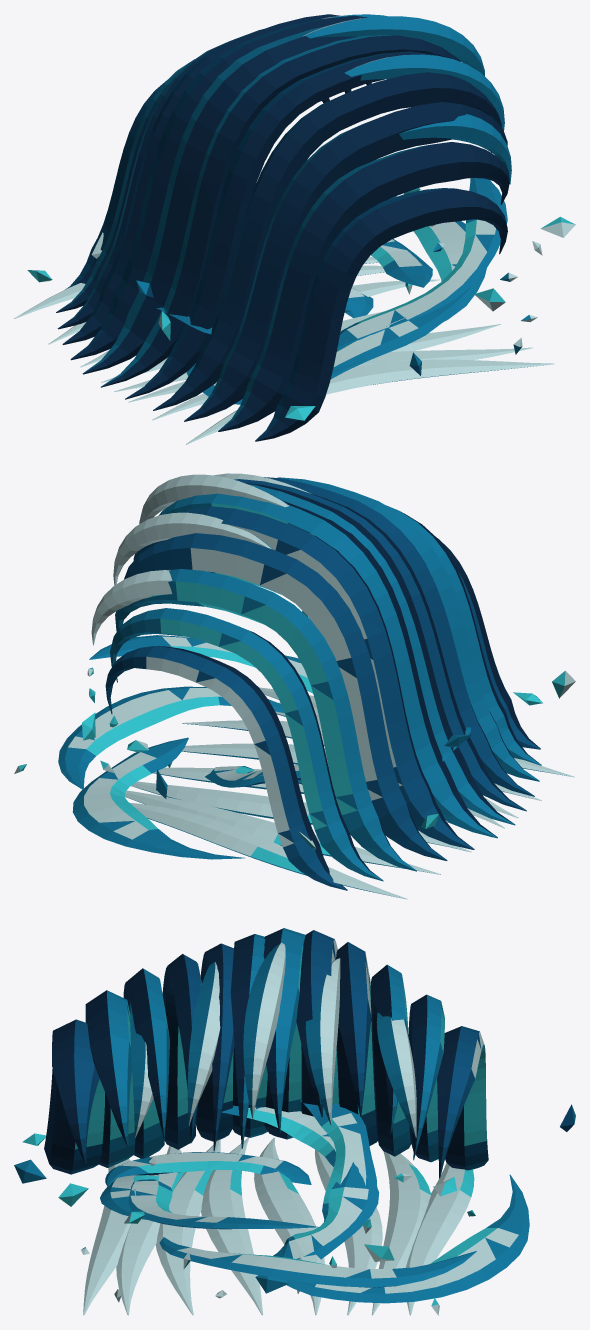
Rendered from Tidal_Surge.glb.
3 renders of one model, top to bottom at view 1: azimuth 30°, elevation 25°; view 2: azimuth 150°, elevation 25°; view 3: azimuth 270°, elevation 25°, orthographic. The views are drawn at different scales.
Visible parts, largest first — view 1: Breaking_Water_02, SURGE_IMPACT, Breaking_Water_04, Breaking_Water_03, Breaking_Water_01, Breaking_Water_06, Breaking_Water_05, Breaking_Water_07, Breaking_Water_08, Breaking_Water_09, Foam_Streak_1, Crest_Foam_3 (+9 smaller); view 2: SURGE_IMPACT, Breaking_Water_09, Breaking_Water_10, Breaking_Water_08, Breaking_Water_11, Breaking_Water_12, Breaking_Water_07, Breaking_Water_06, Breaking_Water_04, Breaking_Water_03, Breaking_Water_05, Foam_Streak_8 (+10 smaller); view 3: SURGE_IMPACT, Breaking_Water_01, Breaking_Water_12, Breaking_Water_02, Breaking_Water_09, Breaking_Water_07, Breaking_Water_04, Breaking_Water_03, Breaking_Water_11, Breaking_Water_05, Breaking_Water_10, Breaking_Water_06 (+14 smaller).
Part boxes in pixels (x1,y1,x2,y2): Breaking_Water_02: [218, 142, 509, 431]; SURGE_IMPACT: [27, 178, 575, 420]; Breaking_Water_04: [153, 72, 501, 410]; Breaking_Water_03: [184, 102, 507, 421]; Breaking_Water_01: [255, 188, 507, 441]; Breaking_Water_06: [101, 34, 460, 387]; Breaking_Water_05: [125, 51, 491, 399]; Breaking_Water_07: [82, 26, 357, 374]; Breaking_Water_08: [70, 15, 367, 360]; Breaking_Water_09: [62, 14, 340, 344]; Foam_Streak_1: [186, 359, 554, 444]; Crest_Foam_3: [303, 16, 484, 76]; SURGE_IMPACT: [58, 611, 575, 859]; Breaking_Water_09: [124, 533, 447, 860]; Breaking_Water_10: [115, 569, 416, 871]; Breaking_Water_08: [133, 506, 474, 849]; Breaking_Water_11: [110, 608, 383, 881]; Breaking_Water_12: [105, 646, 347, 890]; Breaking_Water_07: [159, 493, 497, 838]; Breaking_Water_06: [245, 483, 515, 825]; Breaking_Water_04: [264, 477, 534, 796]; Breaking_Water_03: [277, 477, 539, 781]; Breaking_Water_05: [234, 479, 526, 811]; Foam_Streak_8: [129, 802, 406, 899]; SURGE_IMPACT: [14, 1100, 575, 1303]; Breaking_Water_01: [44, 1019, 104, 1174]; Breaking_Water_12: [437, 1026, 488, 1178]; Breaking_Water_02: [85, 990, 135, 1167]; Breaking_Water_09: [336, 942, 377, 1145]; Breaking_Water_07: [263, 928, 305, 1139]; Breaking_Water_04: [162, 954, 201, 1149]; Breaking_Water_03: [123, 968, 169, 1158]; Breaking_Water_11: [408, 994, 444, 1162]; Breaking_Water_05: [195, 943, 234, 1151]; Breaking_Water_10: [371, 964, 411, 1156]; Breaking_Water_06: [230, 934, 267, 1148].
Size of the model in its own units: 6.36 by 4.34 by 7.25.
